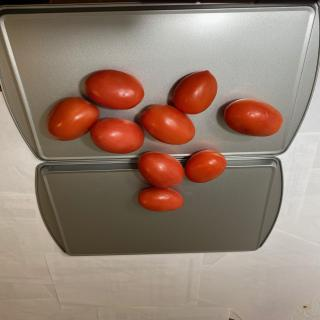Chilli: (44, 67, 284, 212)
Tomato: (84, 69, 144, 110), (45, 97, 100, 141), (224, 98, 284, 137), (140, 104, 196, 145), (172, 70, 218, 114), (90, 118, 144, 154), (137, 151, 185, 188), (184, 149, 227, 183), (138, 186, 185, 212)
